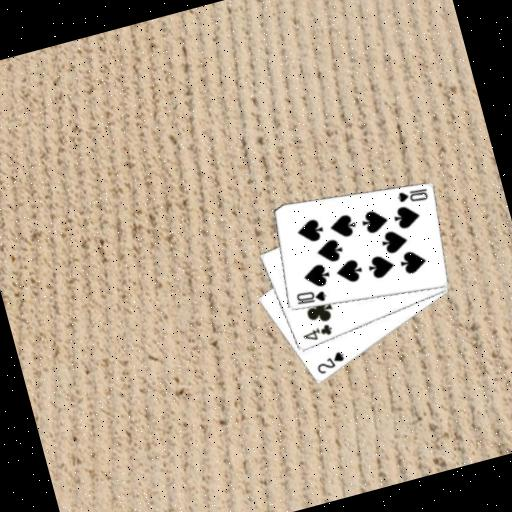10S: (291, 284, 329, 310), (392, 182, 430, 208)
2S: (310, 347, 348, 377)
4C: (298, 320, 335, 345)
